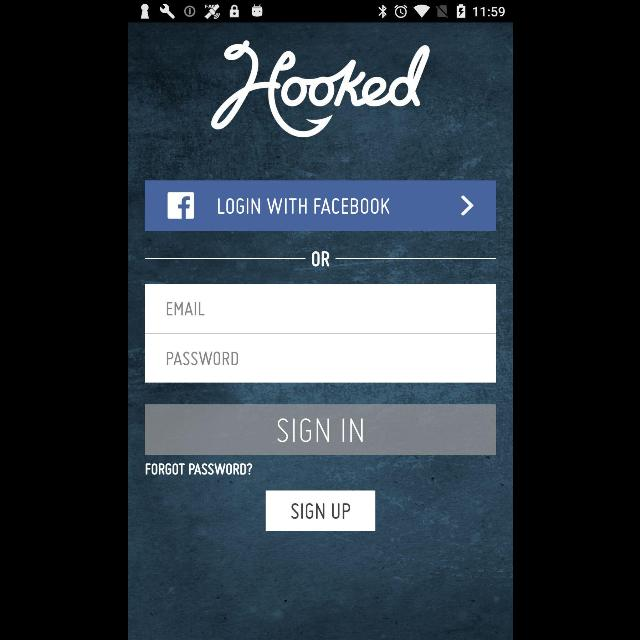image: (210, 40, 430, 138)
input: (144, 284, 496, 334), (144, 333, 496, 382)
text: (144, 463, 252, 475), (166, 352, 238, 366), (166, 302, 204, 316), (311, 251, 329, 267)
textbutton: (144, 180, 496, 232), (144, 404, 496, 456), (265, 491, 375, 531)
uppertaskbar: (128, 1, 512, 23)
